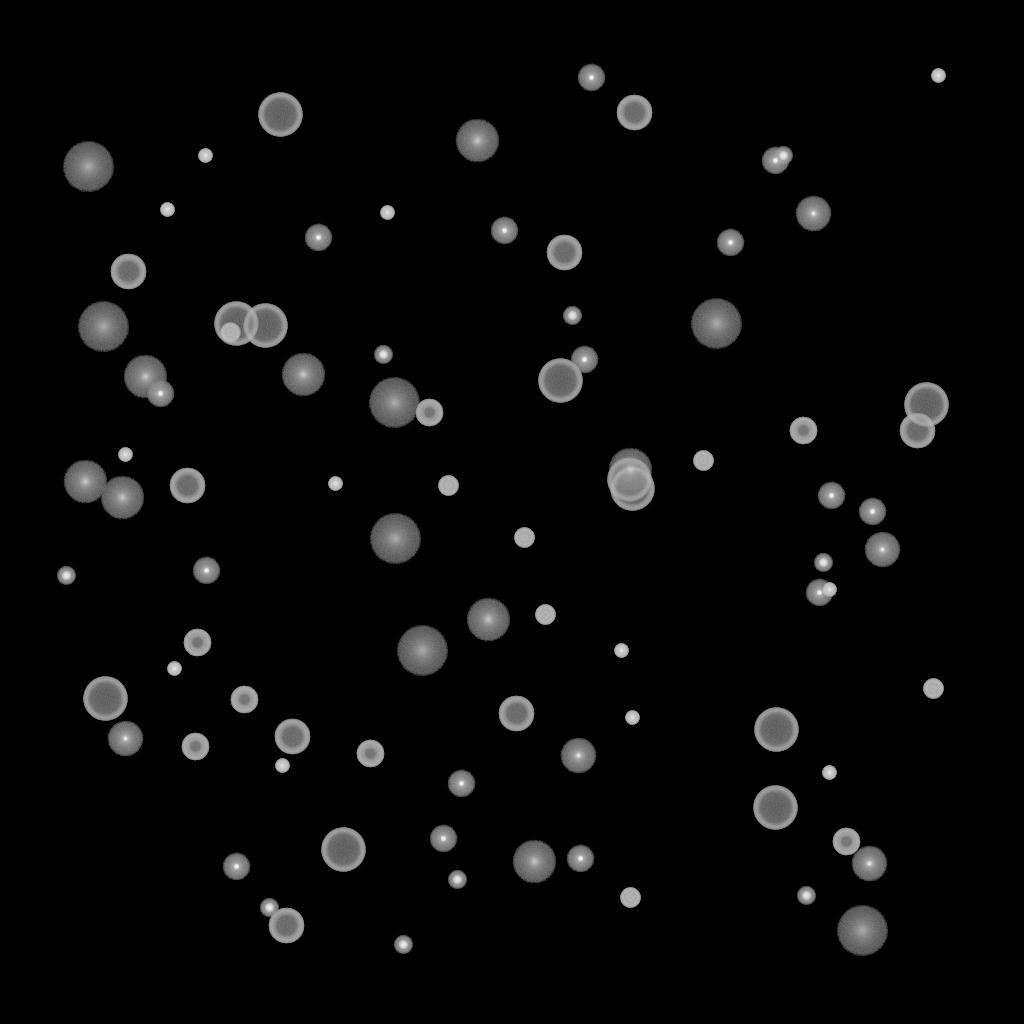depth:-10: (570, 346, 598, 374), (304, 224, 332, 252), (817, 482, 845, 510), (761, 147, 789, 175), (490, 217, 518, 245), (222, 853, 250, 881), (146, 380, 174, 408), (577, 64, 605, 92), (566, 845, 594, 873), (858, 498, 886, 526), (716, 229, 744, 257), (805, 579, 833, 607), (429, 825, 457, 853), (192, 557, 220, 585), (447, 770, 475, 798)
depth:-20: (797, 887, 815, 905), (448, 871, 466, 889), (814, 554, 832, 572), (774, 147, 792, 165), (57, 567, 75, 585), (394, 936, 412, 954), (563, 307, 581, 325), (374, 346, 392, 364), (260, 899, 278, 917)
depth:-30: (625, 711, 639, 725), (822, 583, 836, 597), (118, 448, 132, 462), (822, 766, 836, 780), (614, 644, 628, 658), (160, 203, 174, 217), (380, 206, 394, 220), (198, 149, 212, 163), (167, 662, 181, 676), (275, 759, 289, 773), (931, 69, 945, 83), (328, 477, 342, 491)
depth:-40: (923, 679, 943, 699), (693, 451, 713, 471), (620, 888, 640, 908), (438, 476, 458, 496), (220, 323, 240, 343), (514, 528, 534, 548), (535, 605, 555, 625)
depth:-50: (183, 629, 211, 657), (789, 417, 817, 445), (181, 733, 209, 761), (415, 399, 443, 427), (356, 740, 384, 768), (230, 686, 258, 714), (832, 828, 860, 856)
depth:-60: (110, 254, 146, 290), (268, 908, 304, 944), (616, 95, 652, 131), (274, 719, 310, 755), (169, 468, 205, 504), (498, 696, 534, 732), (899, 413, 935, 449), (546, 235, 582, 271)
depth:-70: (243, 304, 287, 348), (321, 828, 365, 872), (753, 786, 797, 830), (214, 302, 258, 346), (904, 383, 948, 427), (83, 677, 127, 721), (538, 359, 582, 403), (610, 467, 654, 511), (258, 93, 302, 137), (607, 458, 651, 502), (754, 708, 798, 752)
depth:0: (851, 846, 887, 882), (560, 738, 596, 774), (795, 196, 831, 232), (864, 532, 900, 568), (107, 721, 143, 757)
depth:10: (123, 355, 167, 399), (281, 353, 325, 397), (63, 460, 107, 504), (608, 448, 652, 492), (466, 598, 510, 642), (455, 119, 499, 163), (100, 476, 144, 520), (512, 840, 556, 884)
depth:20: (836, 906, 888, 956), (62, 142, 114, 192), (368, 378, 420, 428), (396, 626, 448, 676), (77, 302, 129, 352), (369, 514, 421, 564), (690, 299, 742, 349)
